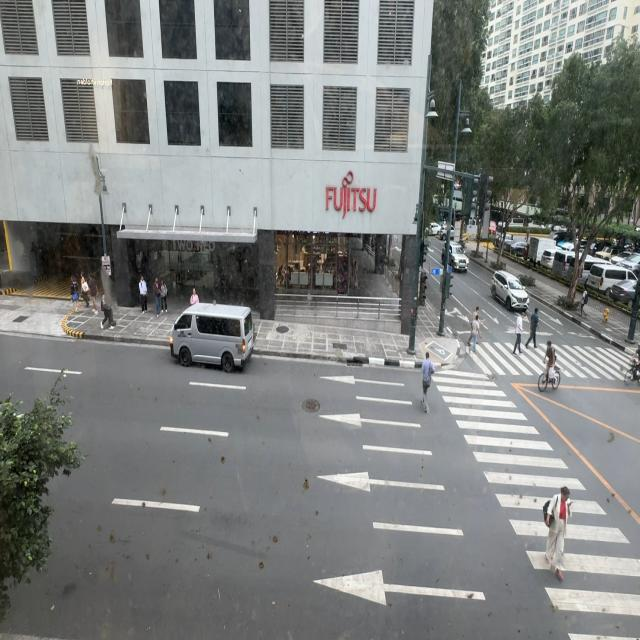crossing: (543, 483, 569, 581), (541, 486, 568, 578), (468, 315, 482, 361), (525, 307, 540, 349), (504, 306, 516, 351), (512, 311, 524, 355), (468, 316, 481, 354), (470, 306, 482, 332)
jaywalking: (419, 350, 434, 418), (422, 352, 438, 412), (525, 307, 540, 349), (512, 311, 524, 355)
pedestrain: (101, 294, 115, 330), (87, 275, 99, 313), (81, 276, 91, 311), (139, 275, 148, 313), (70, 276, 79, 312), (160, 279, 168, 313), (155, 278, 162, 316), (580, 287, 589, 316), (579, 286, 587, 315), (581, 287, 589, 316)
